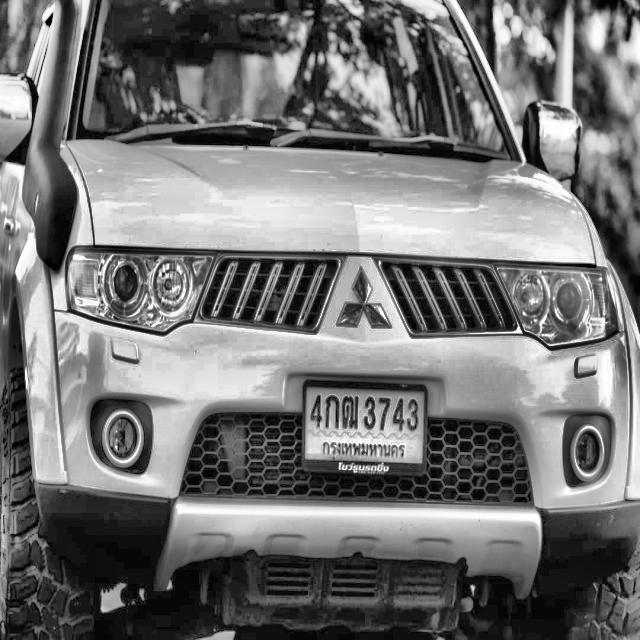license-plate: (298, 378, 432, 482)
